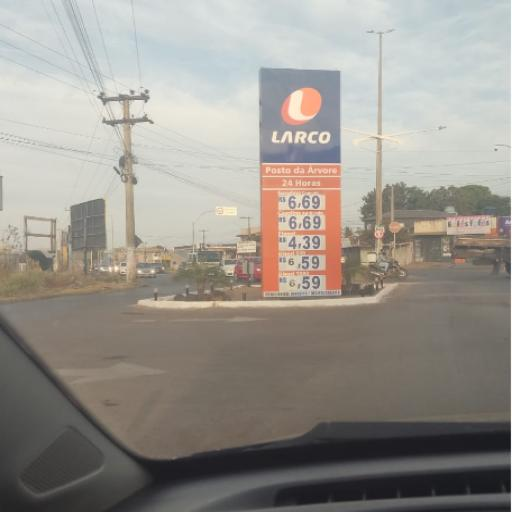ETANOL: (276, 230, 299, 237)
GASOLINA AD: (274, 210, 325, 216)
GASOLINA C: (276, 190, 322, 196)
S10: (276, 250, 306, 256)
S500: (275, 270, 312, 276)
placa: (263, 188, 341, 291)
preco: (289, 235, 322, 251), (287, 195, 321, 210), (288, 216, 324, 230), (287, 276, 320, 290), (286, 256, 320, 269)
